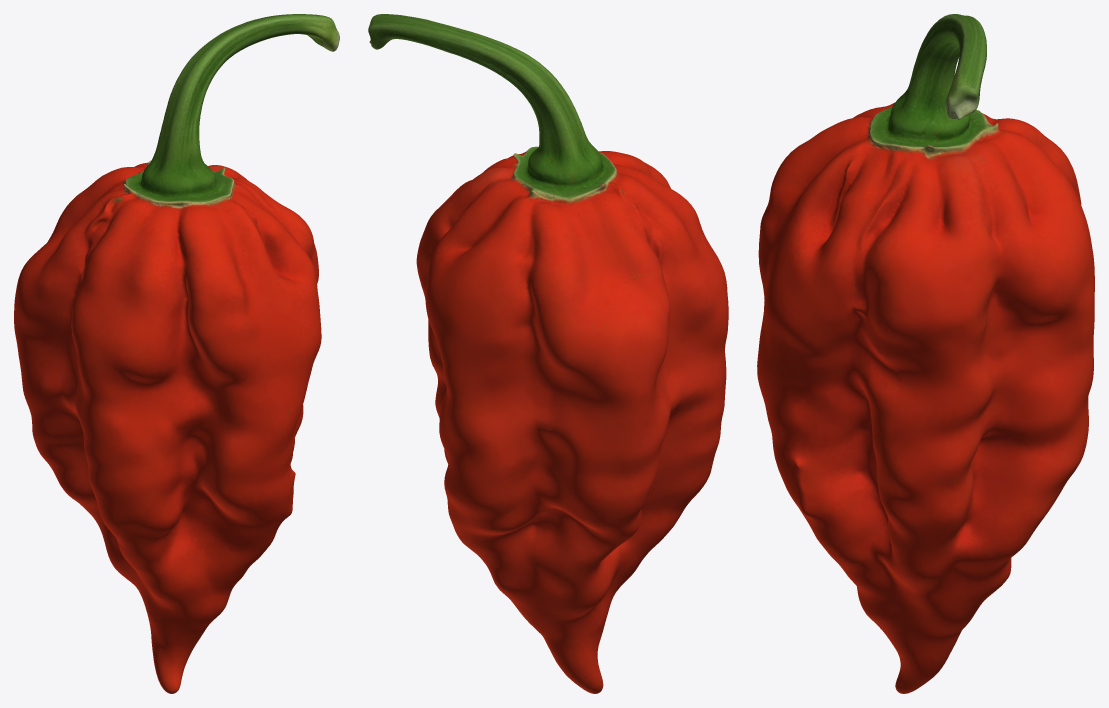
File: naga.glb
3 views of the same model, side by side, from view 1: azimuth 30°, elevation 25°; view 2: azimuth 150°, elevation 25°; view 3: azimuth 270°, elevation 25° (orthographic). The views are drawn at different scales.
Bounding box in the file's own units: 0.9433 × 1.9 × 0.8009.
1 material, 1 textured.
